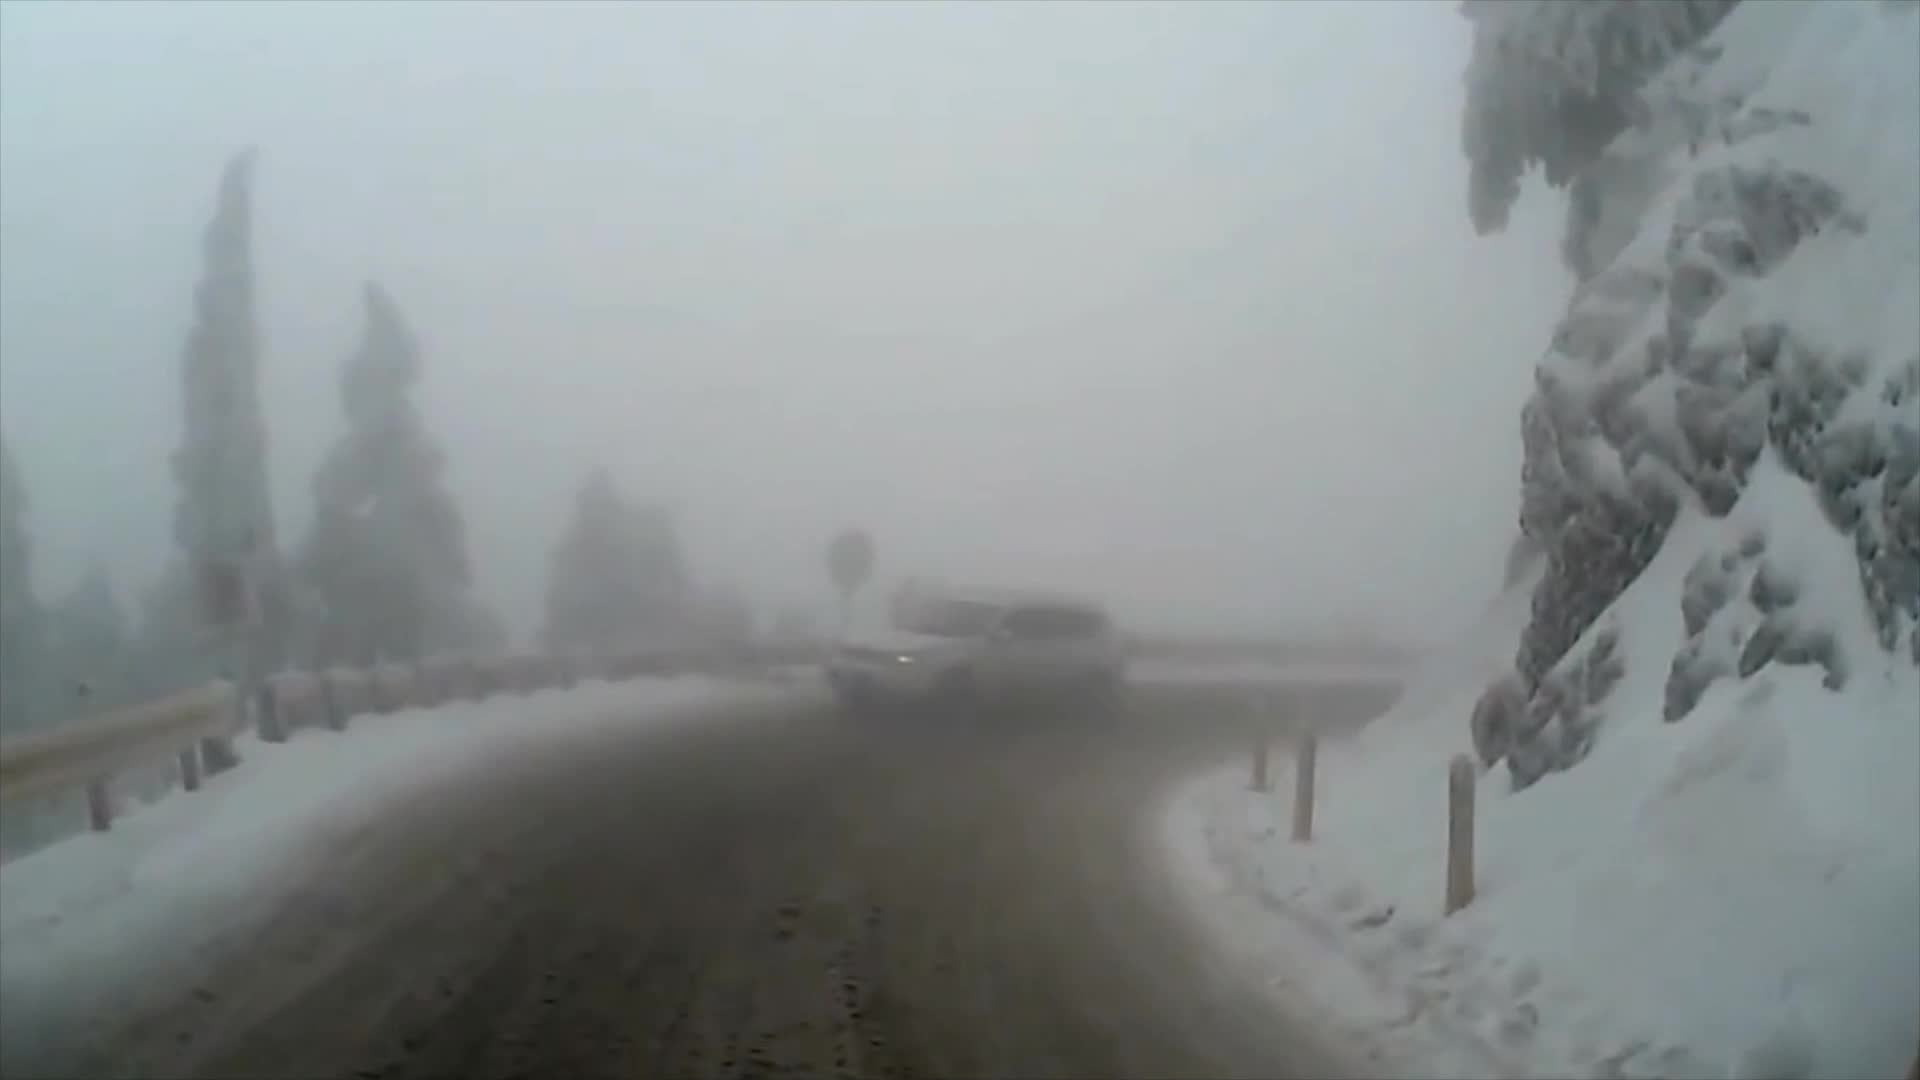vehicle: (825, 589, 1122, 744)
